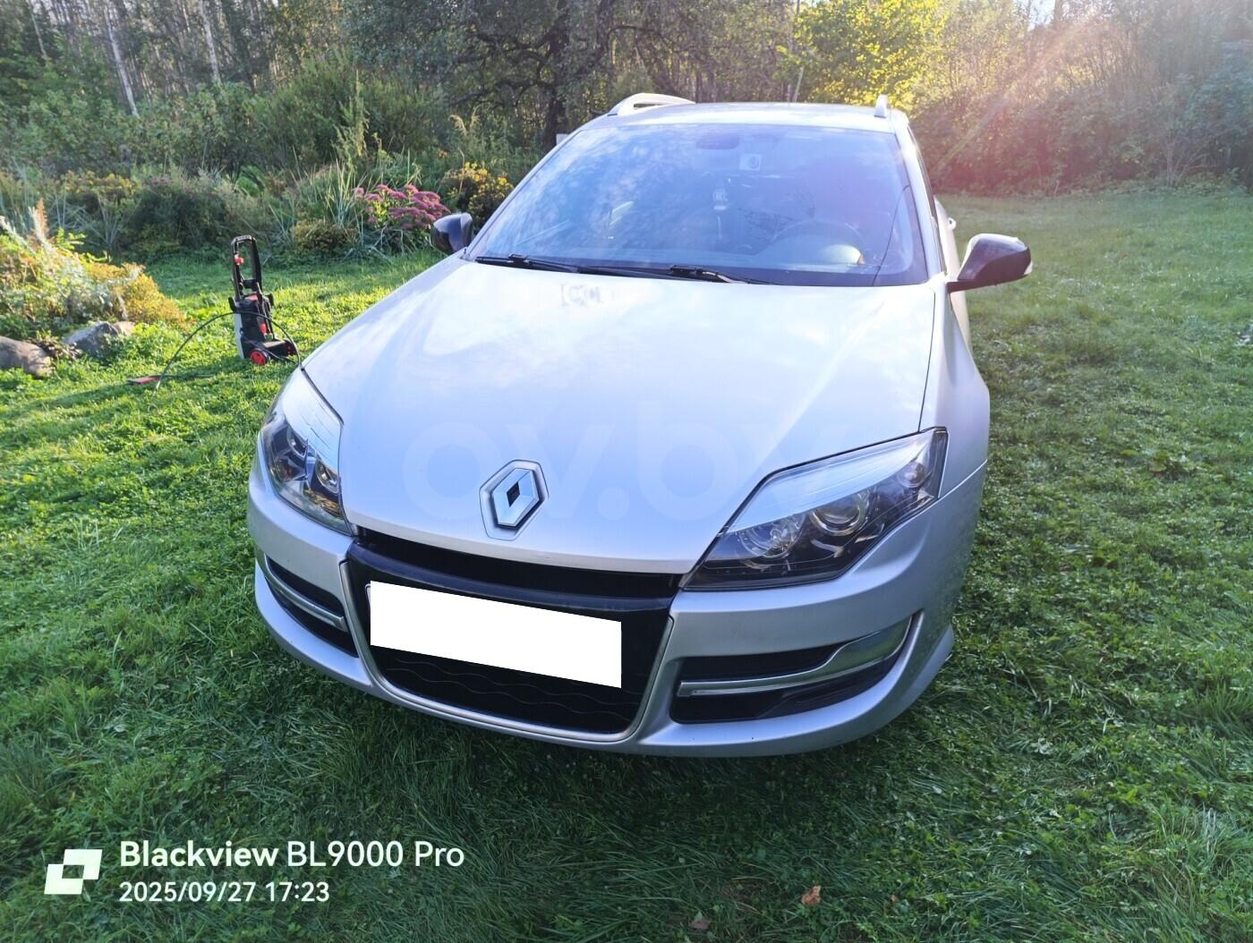Laguna_2010-2015: (239, 81, 1009, 775)
